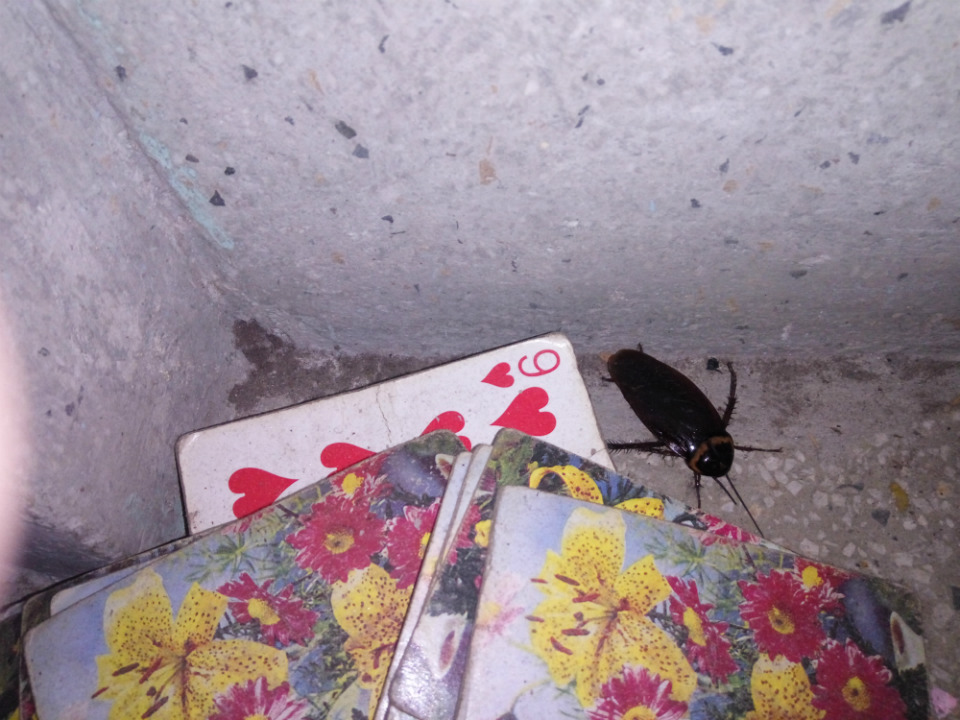cockroach: (543, 294, 856, 536)
